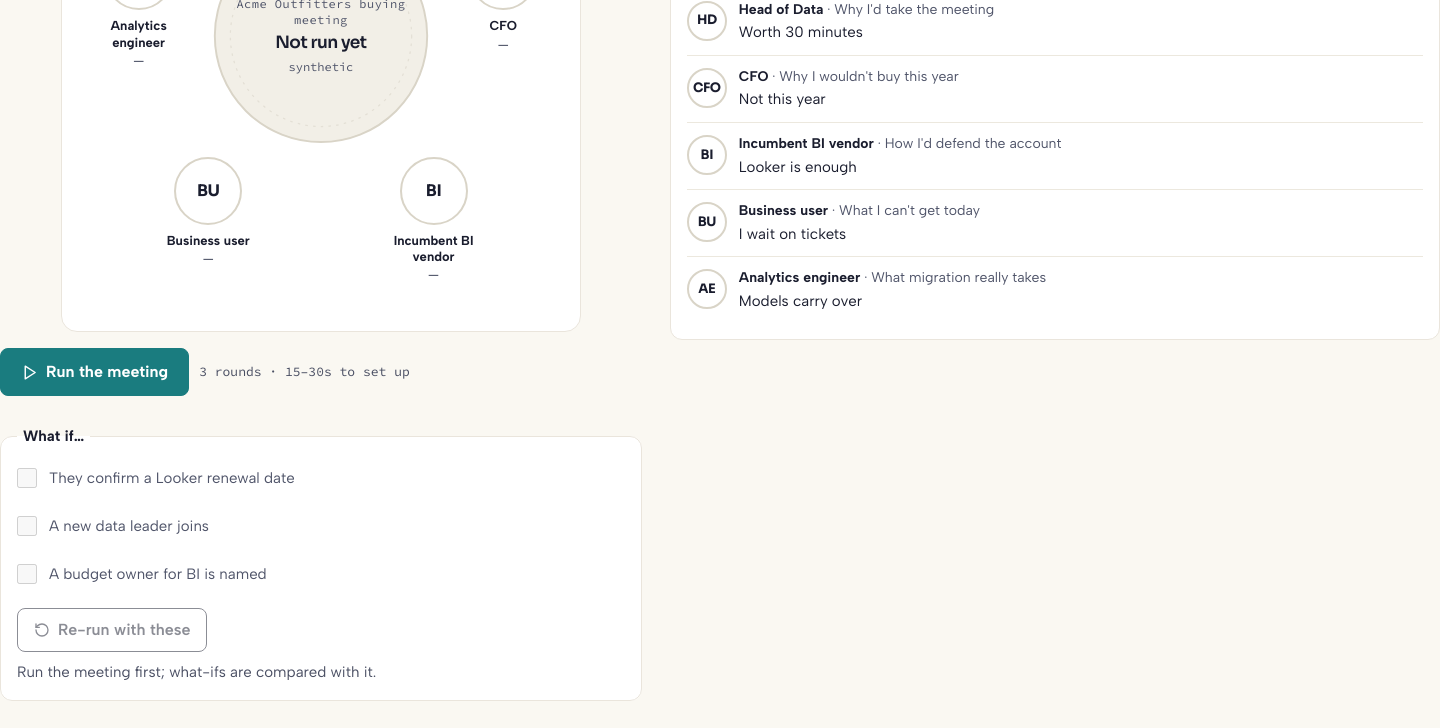
Scenario: committee view › runs the meeting through the endpoint when the run doesn't have one
(page scrolled)
Expected: the text "Not this year" is shown, [739,90,826,108]
Click the button "Run the meeting" at (95, 372), box [0,348,189,396]
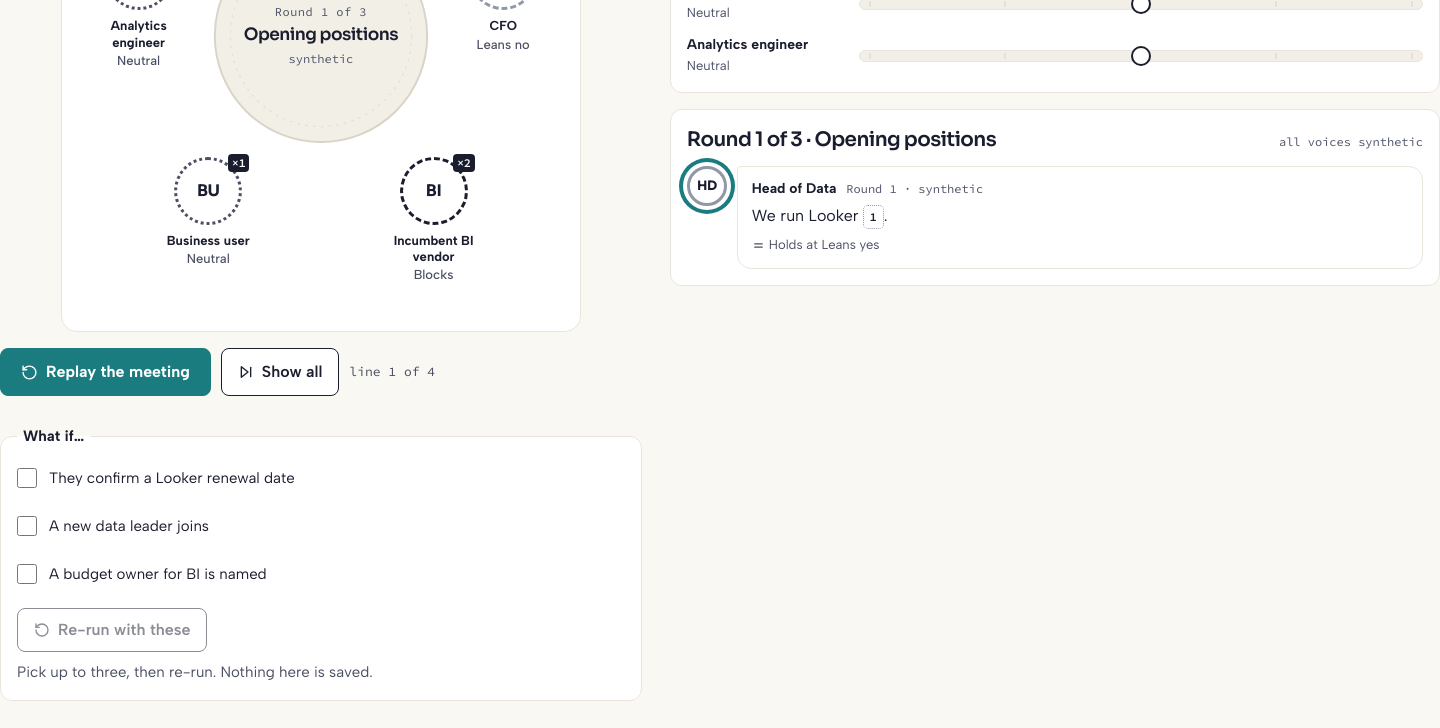
Click the button "Show all" at (280, 372), box [221,348,339,396]
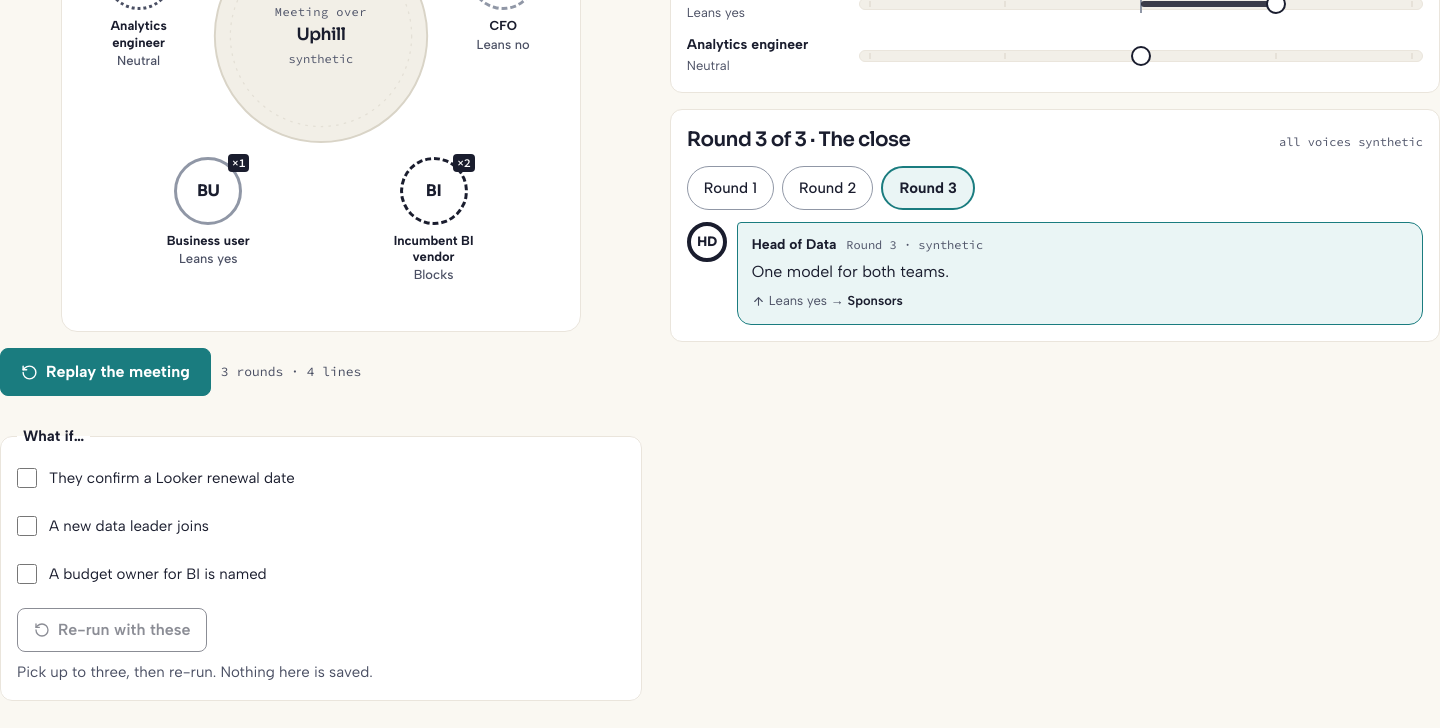
Result: the text "One model for both teams." is shown at [752,262,949,281]
